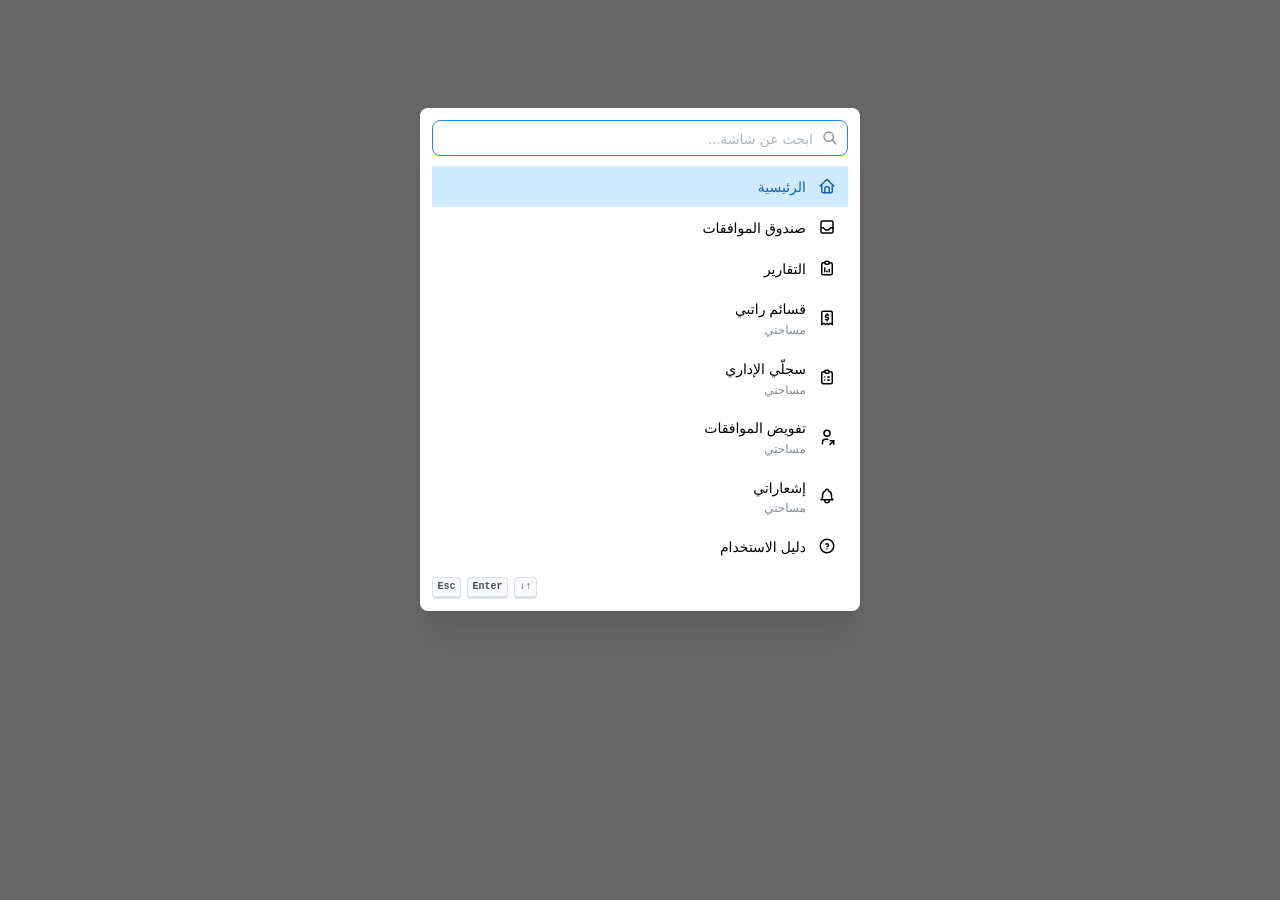
Scenario: البحث السريع في القائمة › رسالة عند عدم وجود نتائج
Type "zzzzqq" into the field with placeholder "ابحث عن شاشة…". click: {"x": 640, "y": 138}
box: x1=432 y1=120 x2=848 y2=156
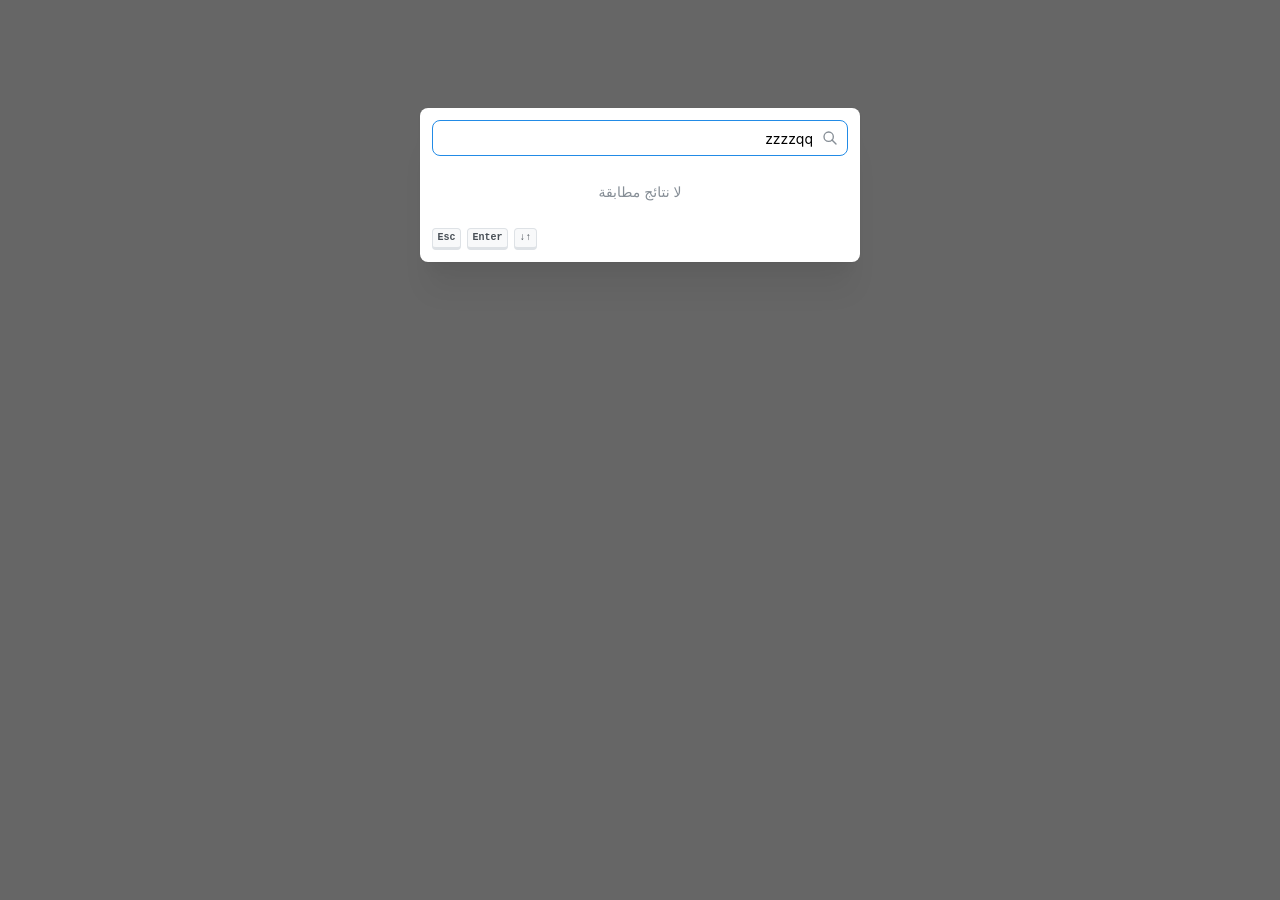
Check: the text "لا نتائج مطابقة" is shown, box x1=598 y1=183 x2=681 y2=200
